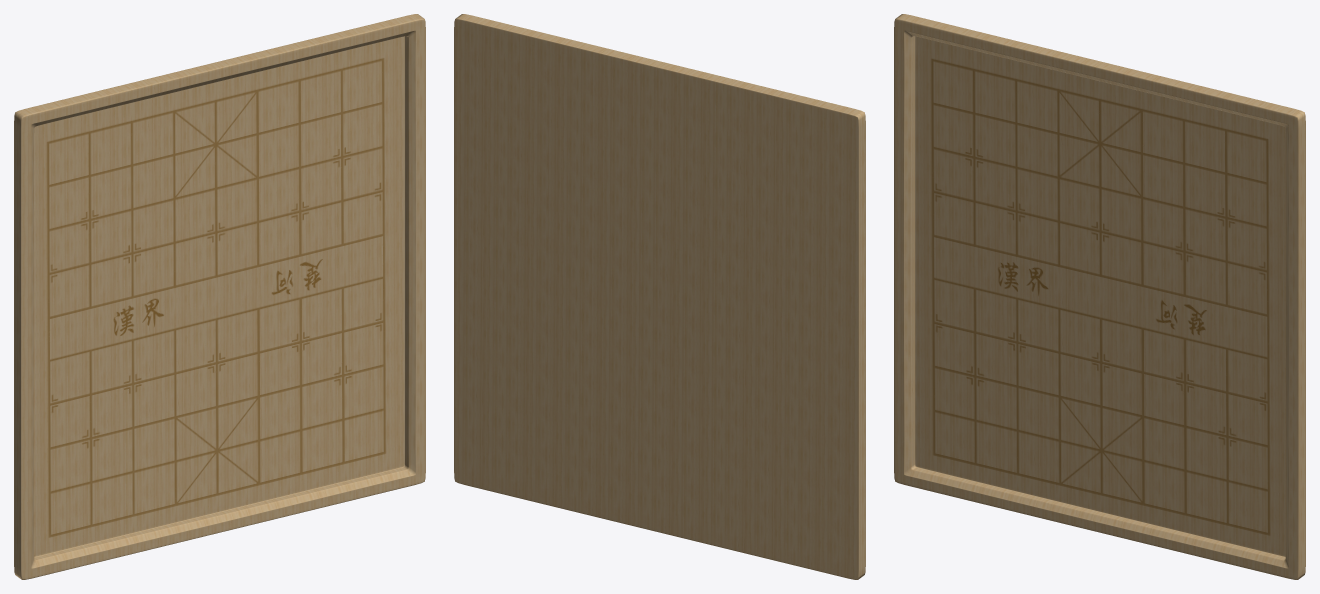
File: h01_chess_board_068.obj
3 renders of one model, left to right at view 1: azimuth 30°, elevation 25°; view 2: azimuth 150°, elevation 25°; view 3: azimuth 330°, elevation 25°, orthographic.
Size of the model in its own units: 0.6392 by 0.7008 by 0.0196.
Materials: 1 (1 with a texture image).
